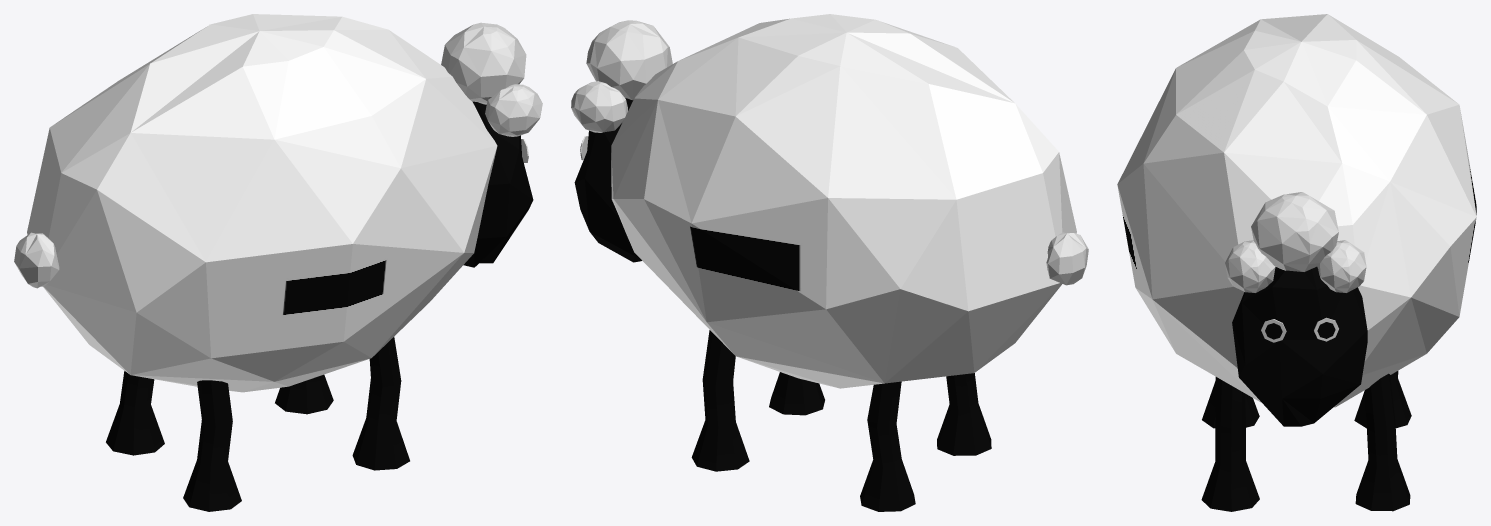
Rendered from sheepminus.fbx.
3 renders of one model, left to right at view 1: azimuth 30°, elevation 25°; view 2: azimuth 150°, elevation 25°; view 3: azimuth 270°, elevation 25°, orthographic.
Parts seen in each view (by area): view 1: pSphere1, pSphere7, pSphere4, pCylinder1, pCylinder5, pCylinder7, pSphere8, pSphere3, pCylinder6; view 2: pSphere1, pCylinder6, pSphere7, pCylinder7, pSphere4, pCylinder1, pSphere9, pSphere3, pCylinder5; view 3: pSphere1, pSphere4, pSphere7, pCylinder5, pCylinder6, pSphere8, pSphere9, pCylinder7, pCylinder1.
Part boxes in pixels (bbox=[...]): pSphere1: bbox=[27, 14, 497, 392]; pSphere7: bbox=[441, 22, 526, 104]; pSphere4: bbox=[463, 101, 533, 267]; pCylinder1: bbox=[183, 380, 241, 511]; pCylinder5: bbox=[352, 337, 409, 470]; pCylinder7: bbox=[106, 371, 164, 455]; pSphere8: bbox=[485, 84, 542, 136]; pSphere3: bbox=[14, 232, 59, 288]; pCylinder6: bbox=[275, 374, 333, 414]; pSphere1: bbox=[611, 14, 1076, 388]; pCylinder6: bbox=[691, 330, 749, 471]; pSphere7: bbox=[586, 20, 672, 100]; pCylinder7: bbox=[860, 381, 915, 511]; pSphere4: bbox=[574, 98, 641, 262]; pCylinder1: bbox=[937, 373, 991, 455]; pSphere9: bbox=[571, 81, 627, 132]; pSphere3: bbox=[1046, 232, 1088, 285]; pCylinder5: bbox=[769, 372, 824, 415]; pSphere1: bbox=[1117, 14, 1476, 407]; pSphere4: bbox=[1232, 266, 1367, 426]; pSphere7: bbox=[1251, 192, 1338, 271]; pCylinder5: bbox=[1201, 378, 1259, 511]; pCylinder6: bbox=[1355, 373, 1410, 511]; pSphere8: bbox=[1225, 240, 1275, 292]; pSphere9: bbox=[1317, 240, 1366, 292]; pCylinder7: bbox=[1354, 371, 1411, 428]; pCylinder1: bbox=[1202, 377, 1259, 428].
Size of the model in its own units: 3.08 by 2.46 by 1.93.
3 materials, 1 textured.
